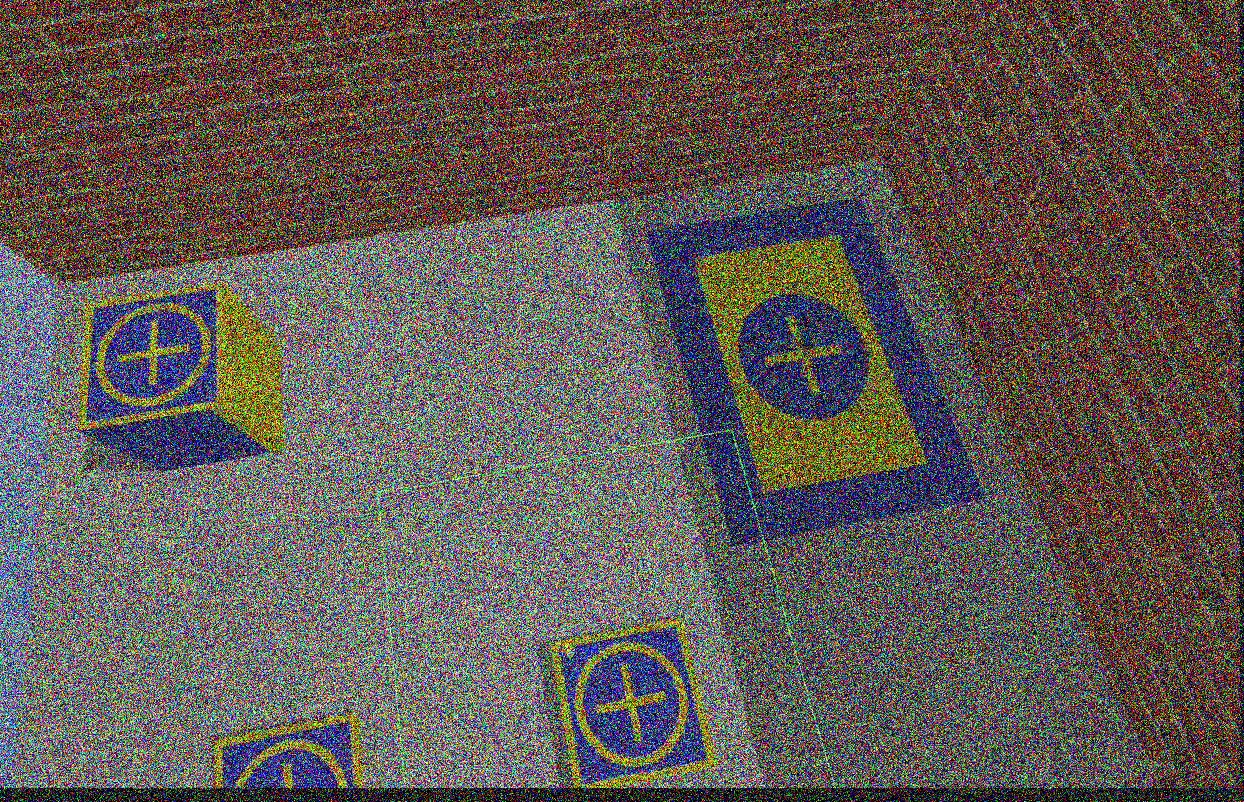large_base: (643, 198, 986, 541)
small_base: (550, 617, 718, 792), (75, 285, 232, 438), (215, 711, 368, 792)
